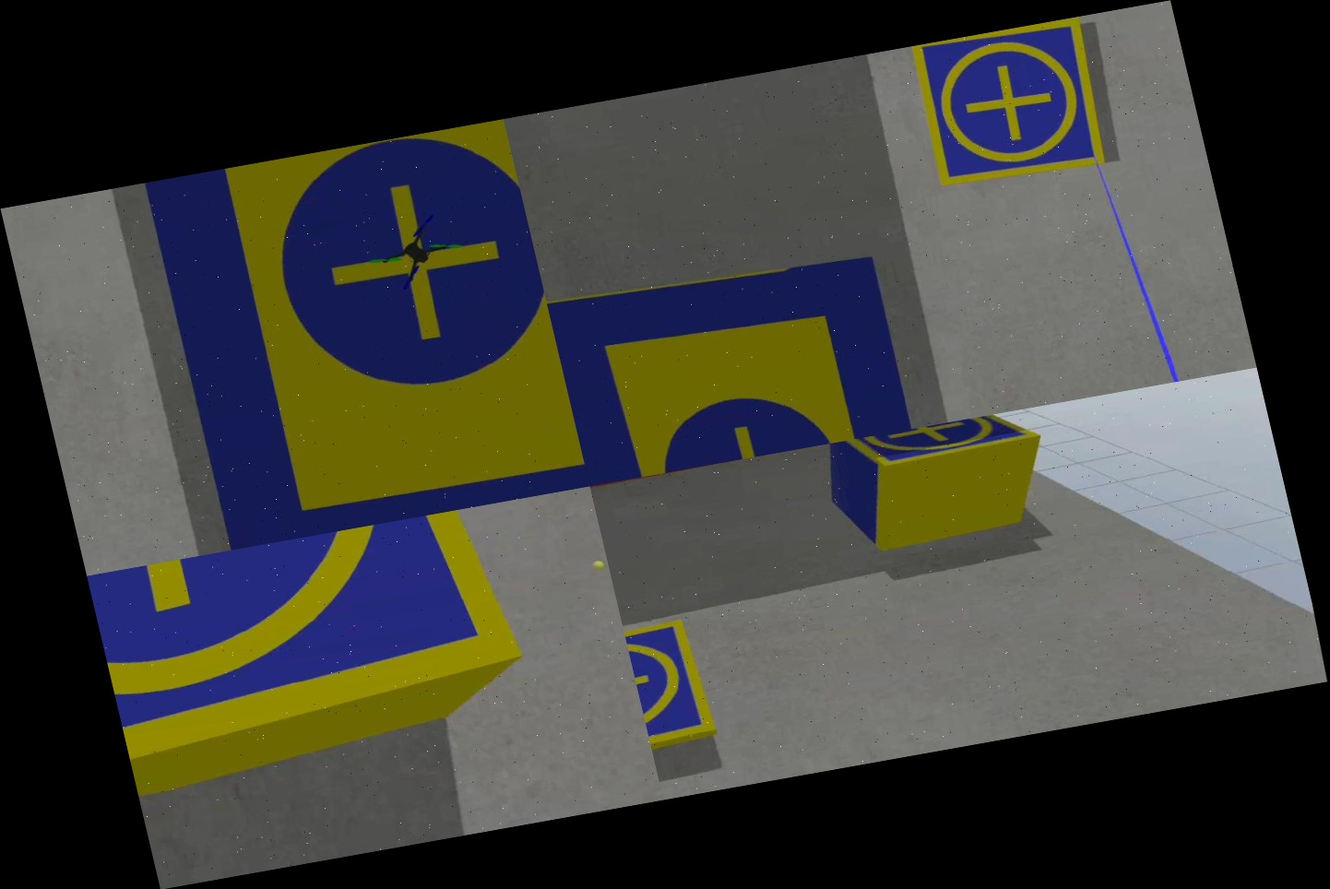large_base: (123, 119, 590, 554), (546, 240, 926, 486)
small_base: (87, 500, 566, 800), (904, 16, 1116, 196), (622, 610, 730, 766), (829, 407, 1047, 482)
